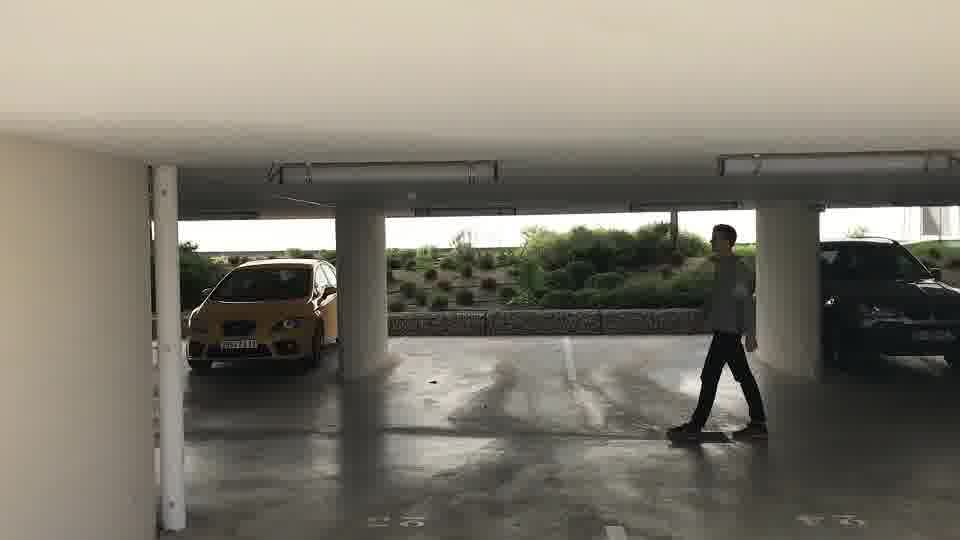jugador: (648, 223, 784, 445)
